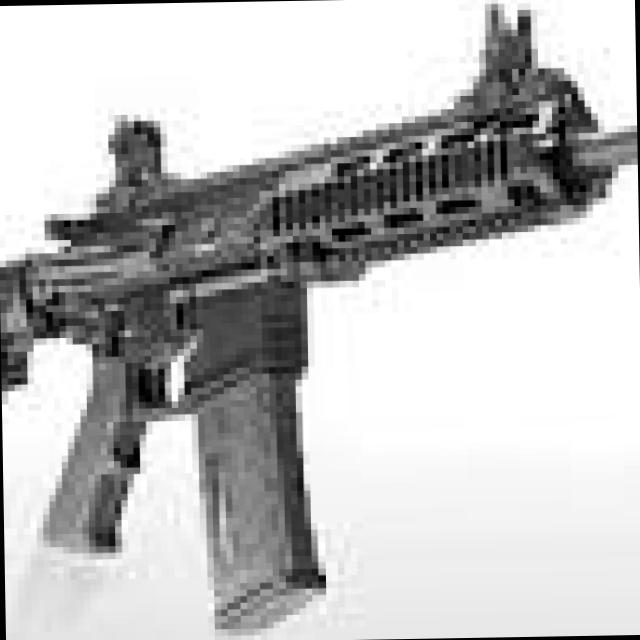Gun: (0, 53, 640, 640)
